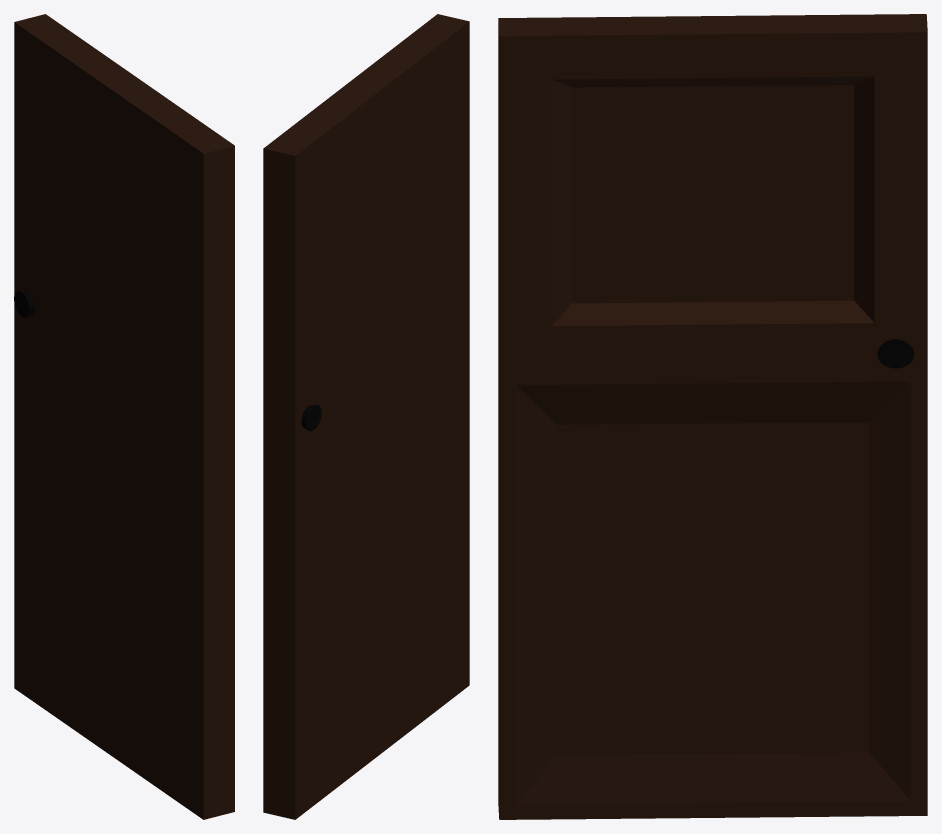
File: Puerta para proyecto.fbx
3 renders of one model, left to right at view 1: azimuth 30°, elevation 25°; view 2: azimuth 150°, elevation 25°; view 3: azimuth 270°, elevation 25°, orthographic. The views are drawn at different scales.
Visible parts, largest first — view 1: Cylinder; view 2: Cylinder; view 3: Cylinder.
Boxes of the visible parts, <box> form: Cylinder: <box>14,14,234,819</box>; Cylinder: <box>263,14,469,819</box>; Cylinder: <box>498,14,927,819</box>.
Size of the model in its own units: 35.08 by 502 by 249.
